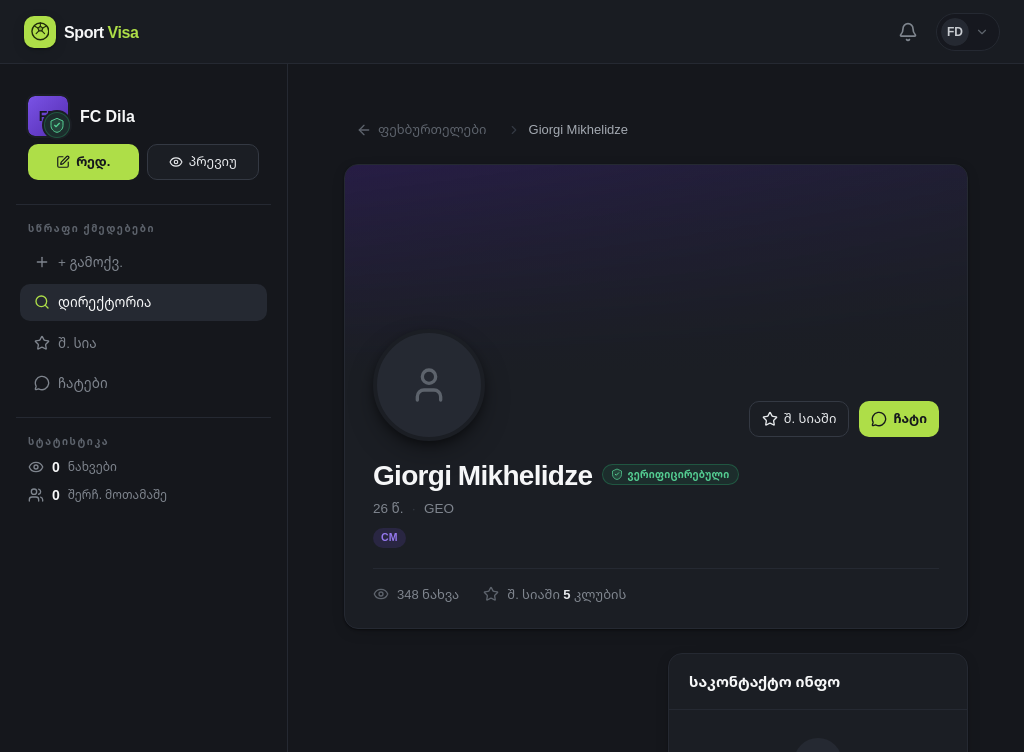
FootballerDetailClient — start chat from profile (T8.5) › shows an error toast when the request fails
Click the button "ჩატი".
click(899, 418)  # box [859, 400, 939, 436]
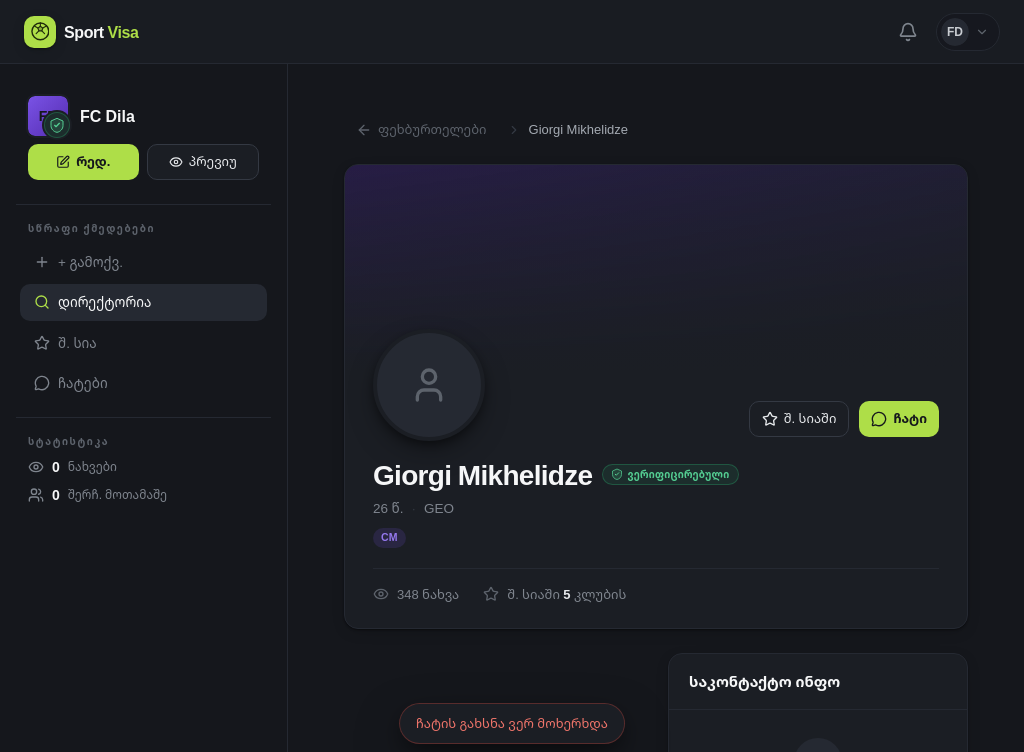
Now the text "ჩატის გახსნა ვერ მოხერხდა" is shown, box [399, 702, 625, 744]
